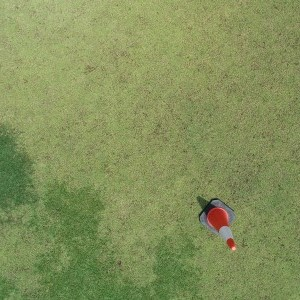traffic cone: (199, 198, 236, 251)
